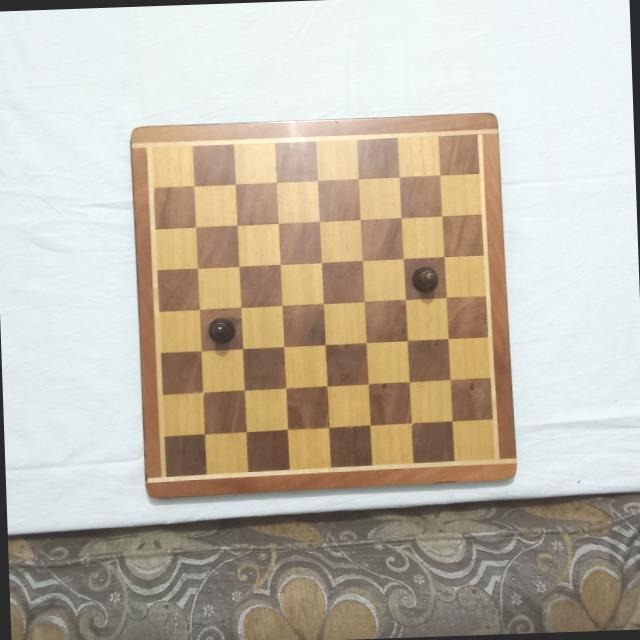black-pawn: (409, 263, 439, 294), (207, 317, 237, 345)
